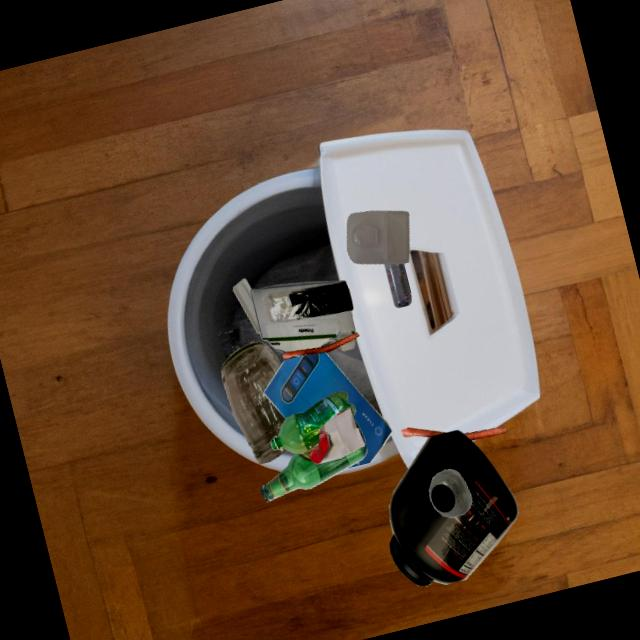biowaste: (282, 332, 359, 359), (463, 426, 507, 440), (401, 427, 446, 437)
glass: (259, 419, 367, 502), (221, 341, 288, 464)
paper: (263, 352, 392, 468), (250, 280, 351, 351), (308, 407, 364, 463)
plastic: (389, 429, 518, 586), (270, 391, 356, 453), (262, 280, 353, 322), (347, 210, 409, 263), (428, 468, 472, 517), (233, 278, 260, 334), (384, 263, 411, 307)
